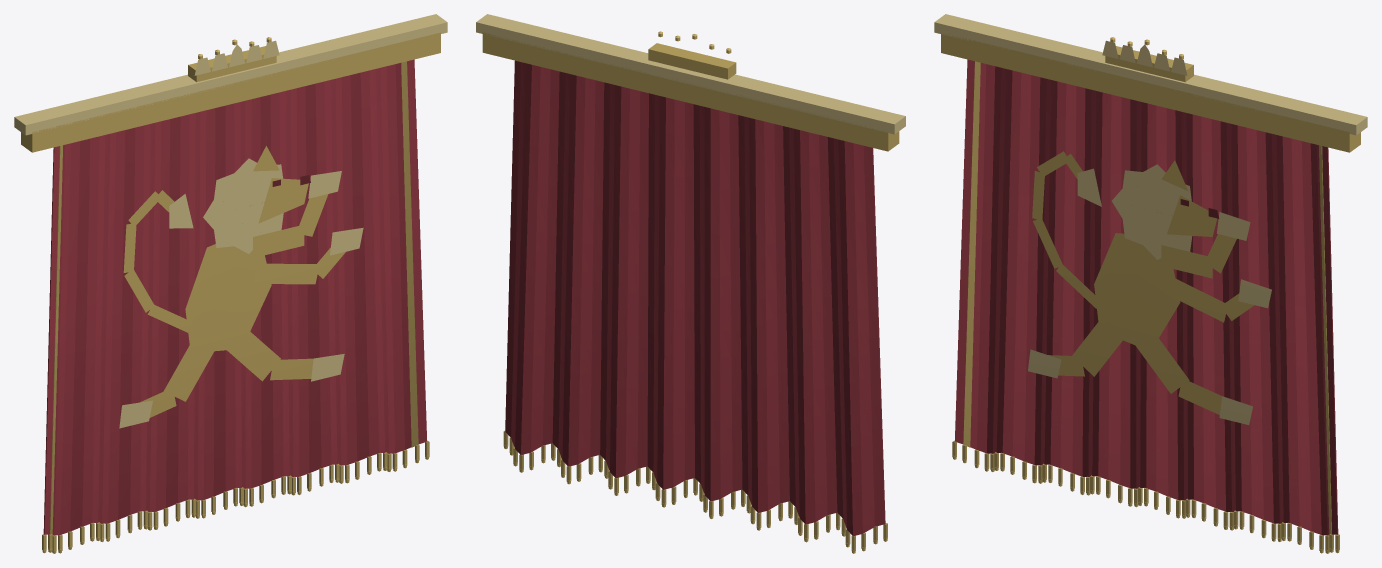
Rendered from palace_cloth_of_state.glb.
3 renders of one model, left to right at view 1: azimuth 30°, elevation 25°; view 2: azimuth 150°, elevation 25°; view 3: azimuth 330°, elevation 25°, orthographic.
Visible parts, largest first — view 1: palace_cloth_of_state; view 2: palace_cloth_of_state; view 3: palace_cloth_of_state.
Part boxes in pixels (<box>): palace_cloth_of_state: <box>14,14,447,553</box>; palace_cloth_of_state: <box>476,14,905,553</box>; palace_cloth_of_state: <box>934,14,1367,553</box>.
Size of the model in its own units: 2.58 by 2.8 by 0.125.
